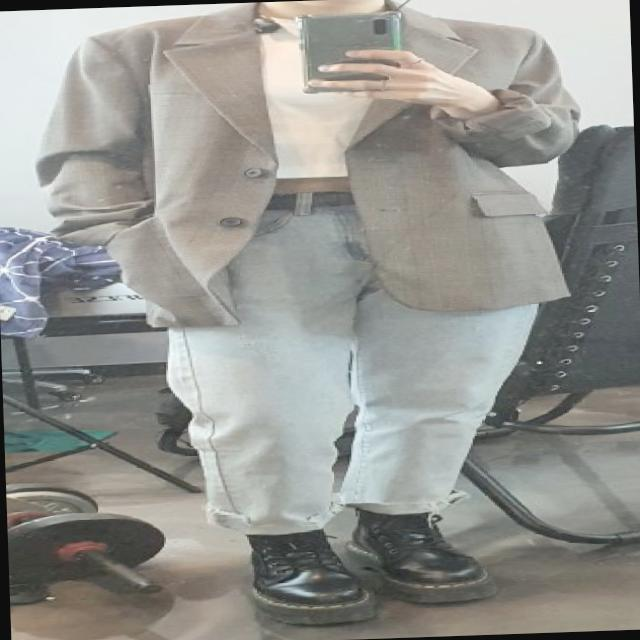blazer: (19, 0, 587, 332)
denimpants: (125, 180, 558, 540)
